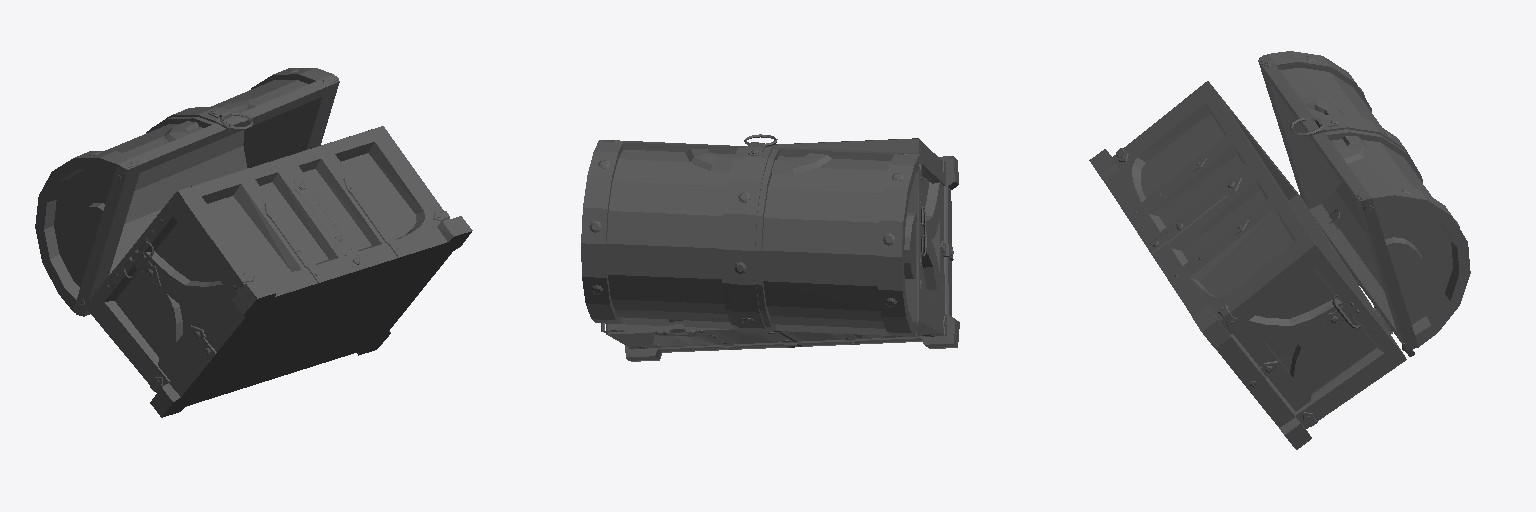
Rendered from cofre.obj.
3 views of the same model, side by side, from view 1: azimuth 30°, elevation 25°; view 2: azimuth 150°, elevation 25°; view 3: azimuth 270°, elevation 25° (orthographic).
Visible parts, largest first — view 1: Cylinder053; view 2: Cylinder053; view 3: Cylinder053.
Part boxes in pixels (left/top/right/bottom): Cylinder053: left=35, top=68, right=472, bottom=417; Cylinder053: left=581, top=134, right=959, bottom=361; Cylinder053: left=1089, top=51, right=1470, bottom=449.
Bounding box in the file's own units: 3.64 × 2.57 × 3.38.